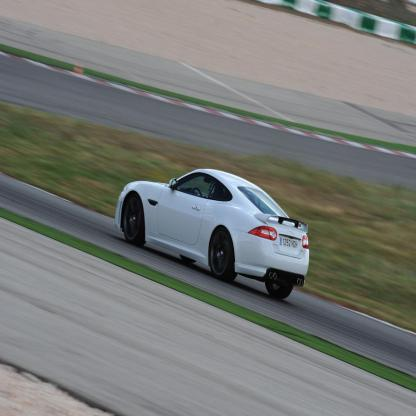Vehicle: (115, 167, 310, 302)
